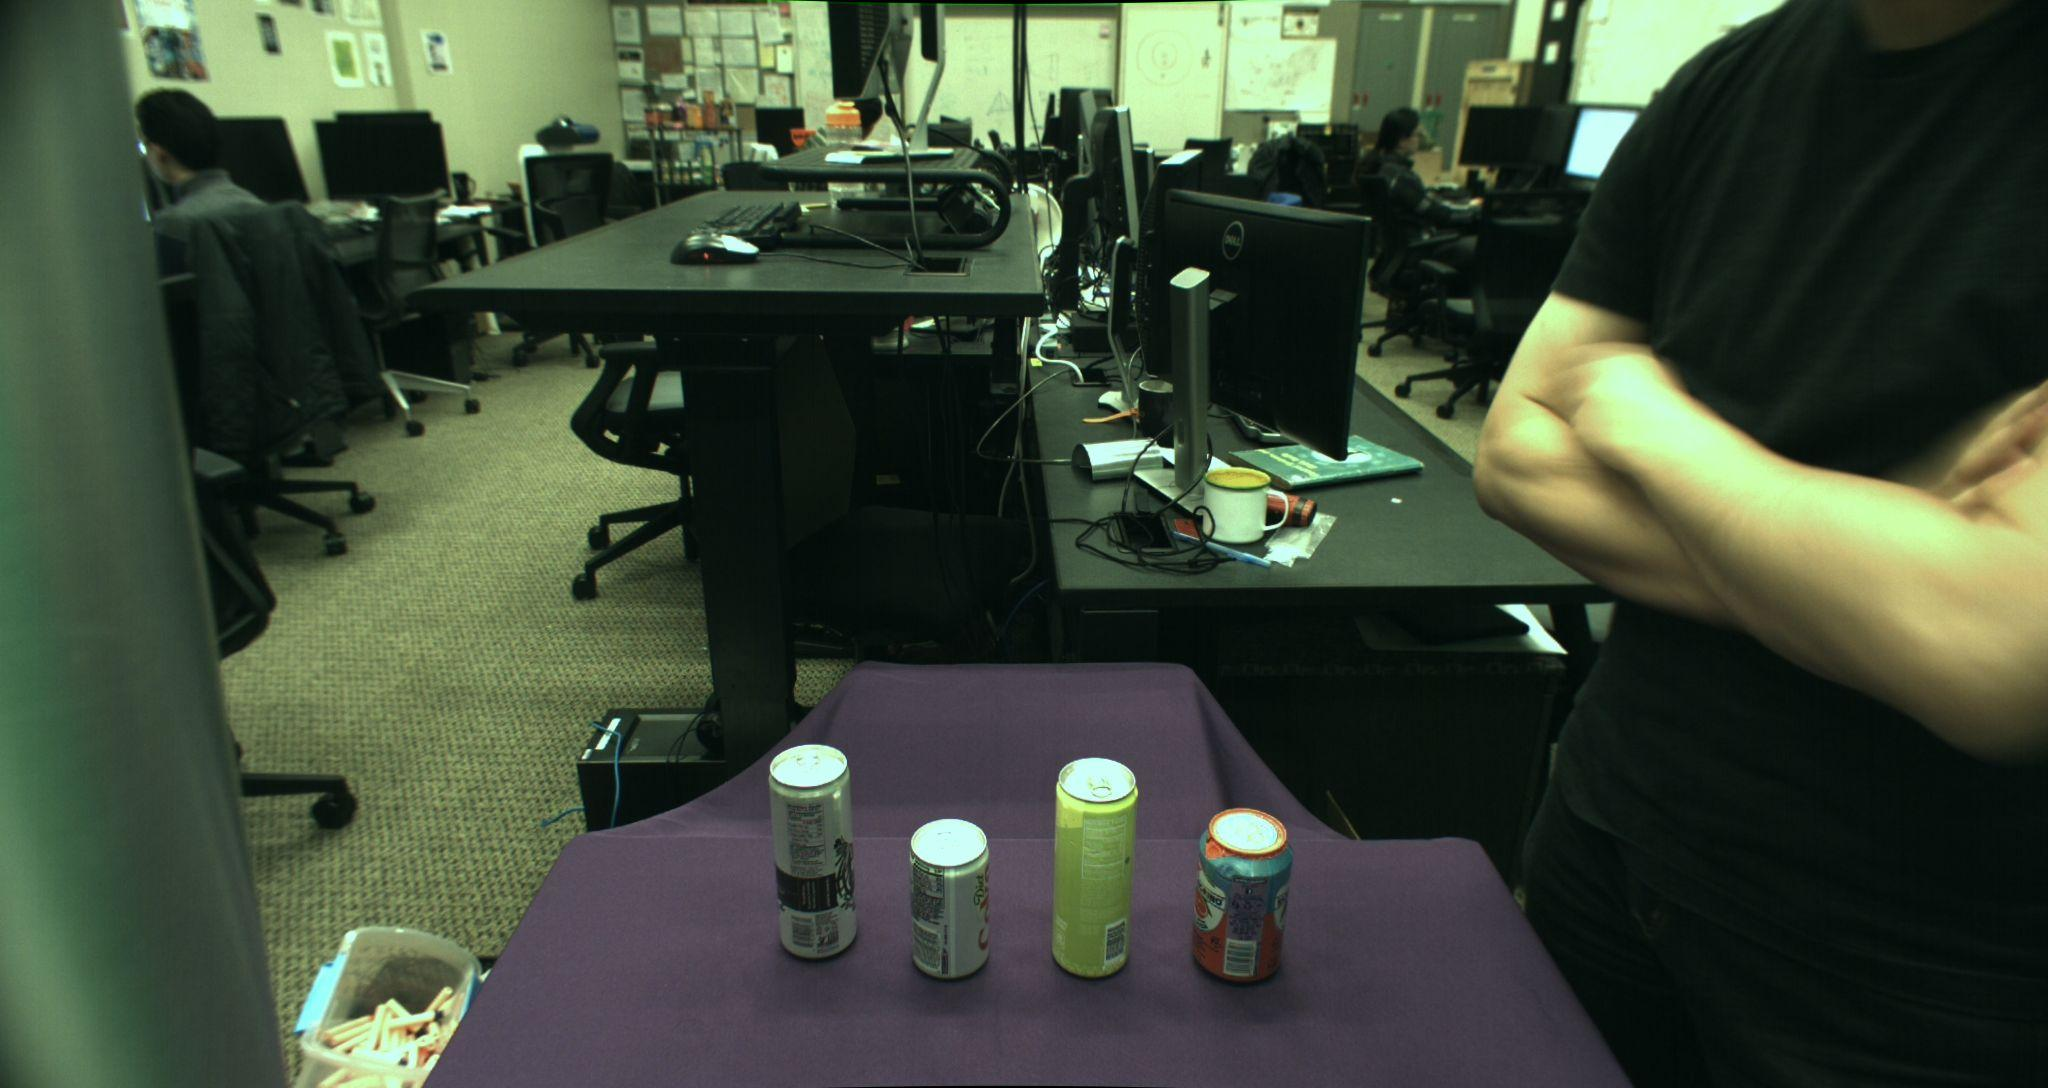can_diet_coke_small: (909, 818, 993, 982)
can_dry_sparkling_vanilla_bean: (767, 742, 857, 961)
can_izze_fusions_lemon_lime: (1050, 755, 1139, 978)
can_sanpellegrino_blood_orange: (1191, 808, 1294, 984)
